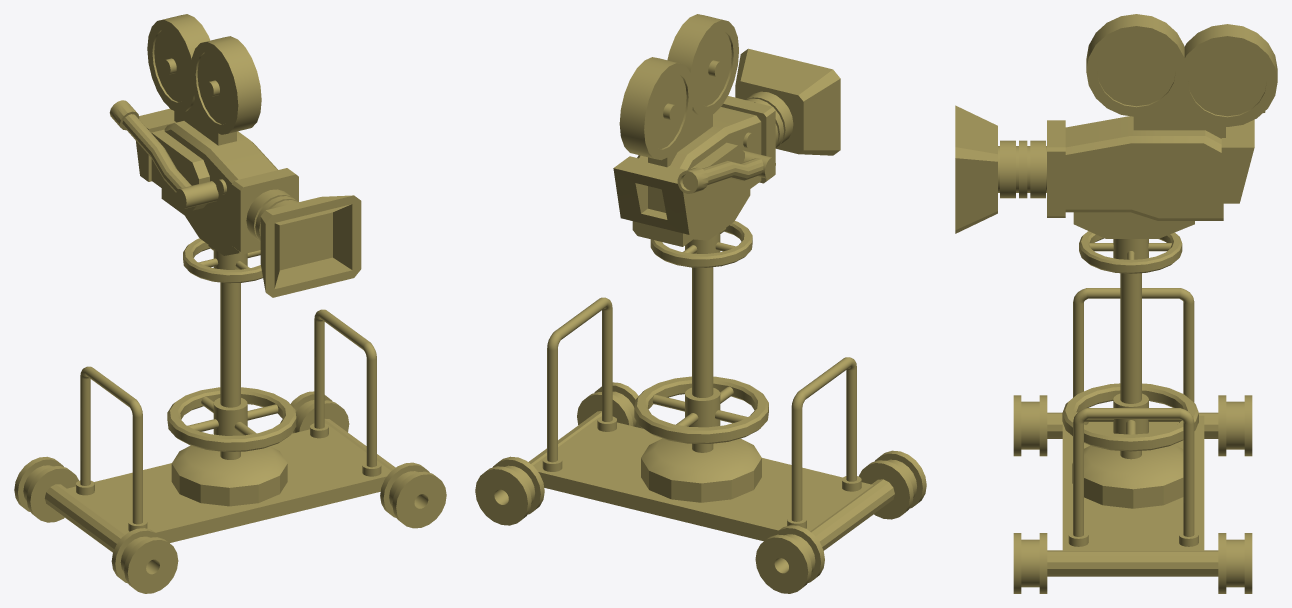
Rendered from Camera_Large.fbx.
The picture shows the model from 3 angles, left to right: view 1: azimuth 30°, elevation 25°; view 2: azimuth 150°, elevation 25°; view 3: azimuth 270°, elevation 25°; orthographic projection. The views are drawn at different scales.
Visible parts, largest first — view 1: Camera_Base, Camera; view 2: Camera_Base, Camera; view 3: Camera, Camera_Base.
Boxes of the visible parts, x1=… form: Camera_Base: x1=14, y1=282, x2=446, y2=593; Camera: x1=109, y1=14, x2=361, y2=297; Camera_Base: x1=475, y1=267, x2=926, y2=593; Camera: x1=613, y1=14, x2=840, y2=267; Camera: x1=955, y1=14, x2=1277, y2=273; Camera_Base: x1=1013, y1=273, x2=1252, y2=593.
Size of the model in its own units: 106 by 151 by 88.11.
